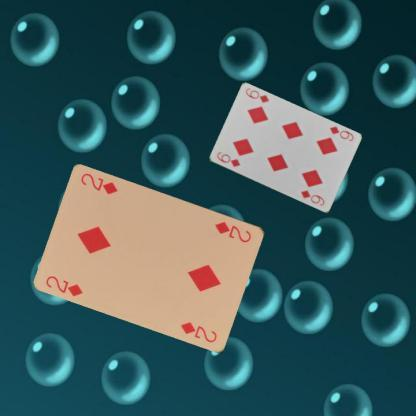2d: (44, 272, 84, 298), (213, 219, 253, 244)
6d: (214, 150, 242, 168), (327, 124, 355, 142)
